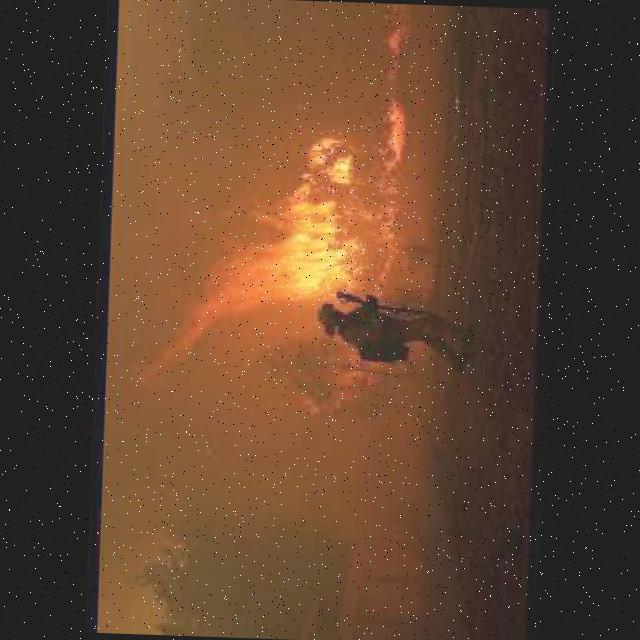fire: (134, 128, 364, 360), (366, 6, 414, 293)
